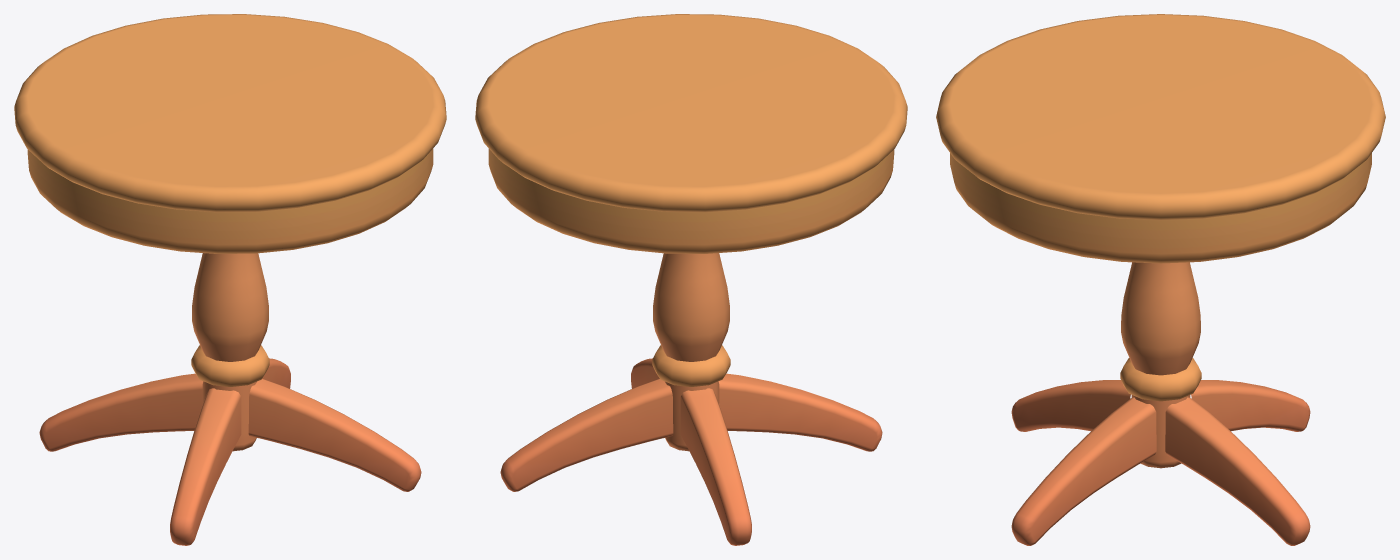
File: Kitchen_Table_12.glb
The picture shows the model from 3 angles, left to right: view 1: azimuth 30°, elevation 25°; view 2: azimuth 150°, elevation 25°; view 3: azimuth 270°, elevation 25°; orthographic projection. The views are drawn at different scales.
Visible parts, largest first — view 1: Kitchen_Table_12; view 2: Kitchen_Table_12; view 3: Kitchen_Table_12.
Part boxes in pixels (x1=…): Kitchen_Table_12: x1=14, y1=14, x2=446, y2=545; Kitchen_Table_12: x1=475, y1=14, x2=907, y2=545; Kitchen_Table_12: x1=936, y1=14, x2=1385, y2=545.
Size of the model in its own units: 0.8 by 0.7504 by 0.8.
Materials: 1 (1 with a texture image).
